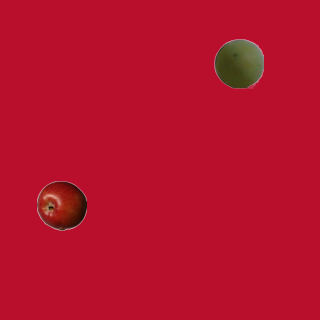Apple Braeburn: (36, 180, 86, 230)
Grape White 4: (213, 38, 263, 88)
